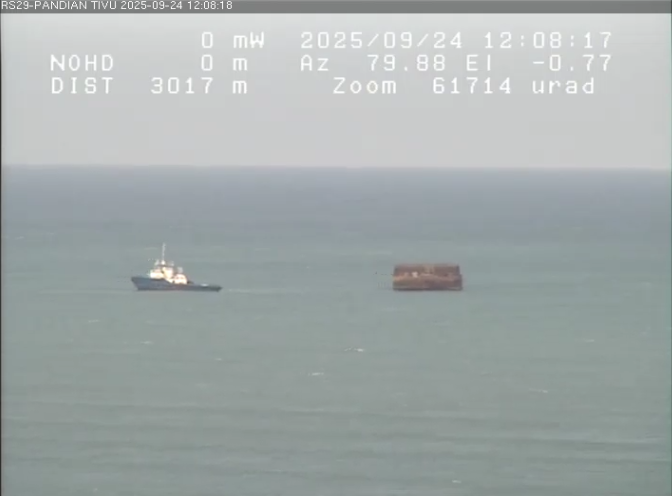BARGE: (346, 235, 495, 321)
OFFSHORE_SUPPLY_VESSEL: (113, 227, 246, 316)
TOWING: (71, 193, 566, 366)
